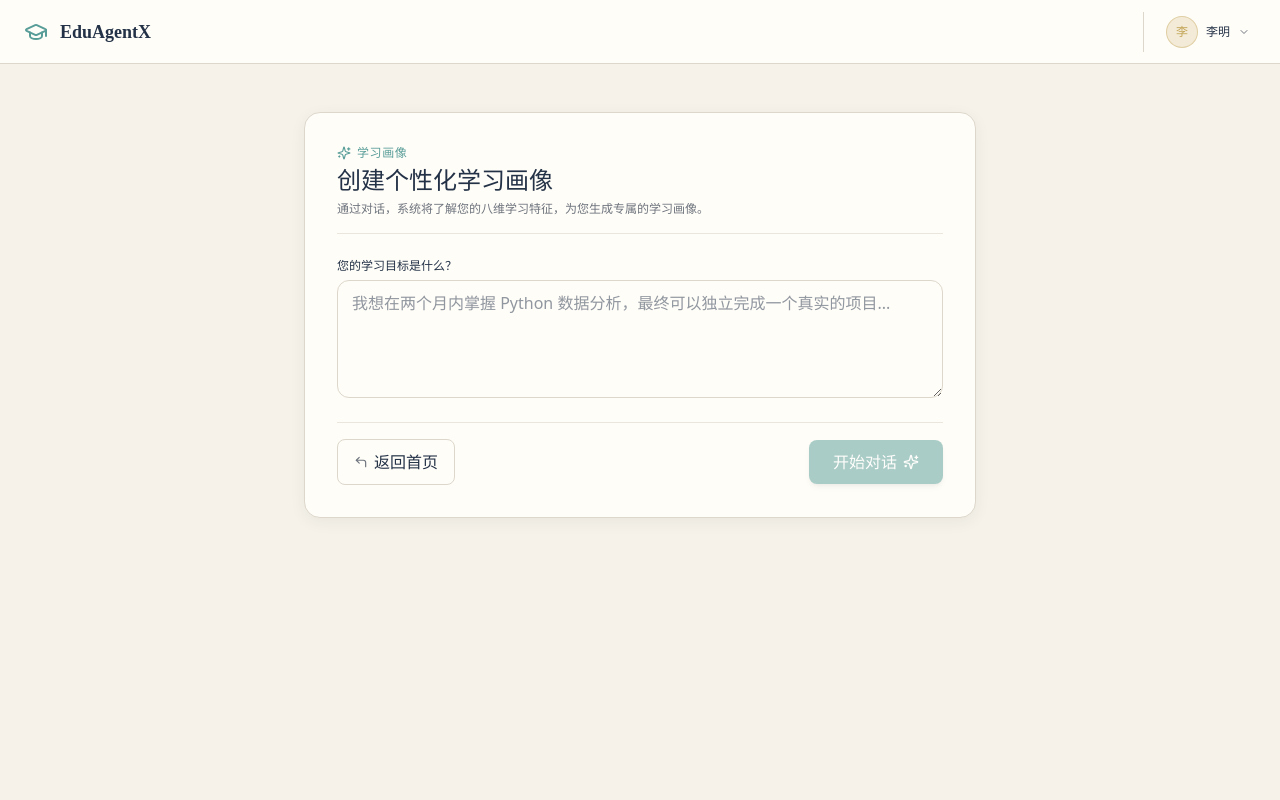
Scenario: ProfileConversationPage › should show validation error when goal is too short
The width and height of the screenshot is (1280, 800).
Type "短" into the text box with placeholder "我想在两个月内掌握 Python 数据分析，最终可以独立完成一个真实的项目..." at coordinates (640, 339), box [337,280,943,398]
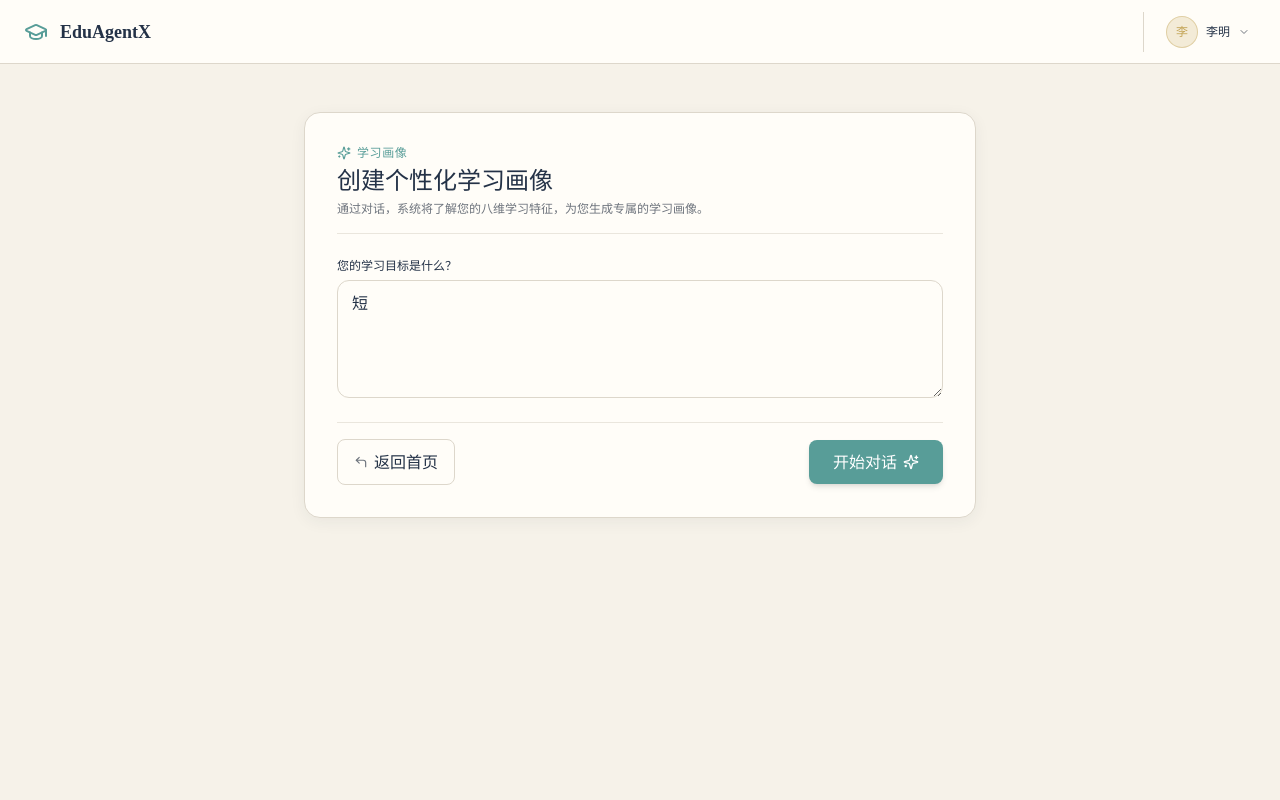
Click the button "开始对话" at coordinates (876, 462), box [809,440,943,484]
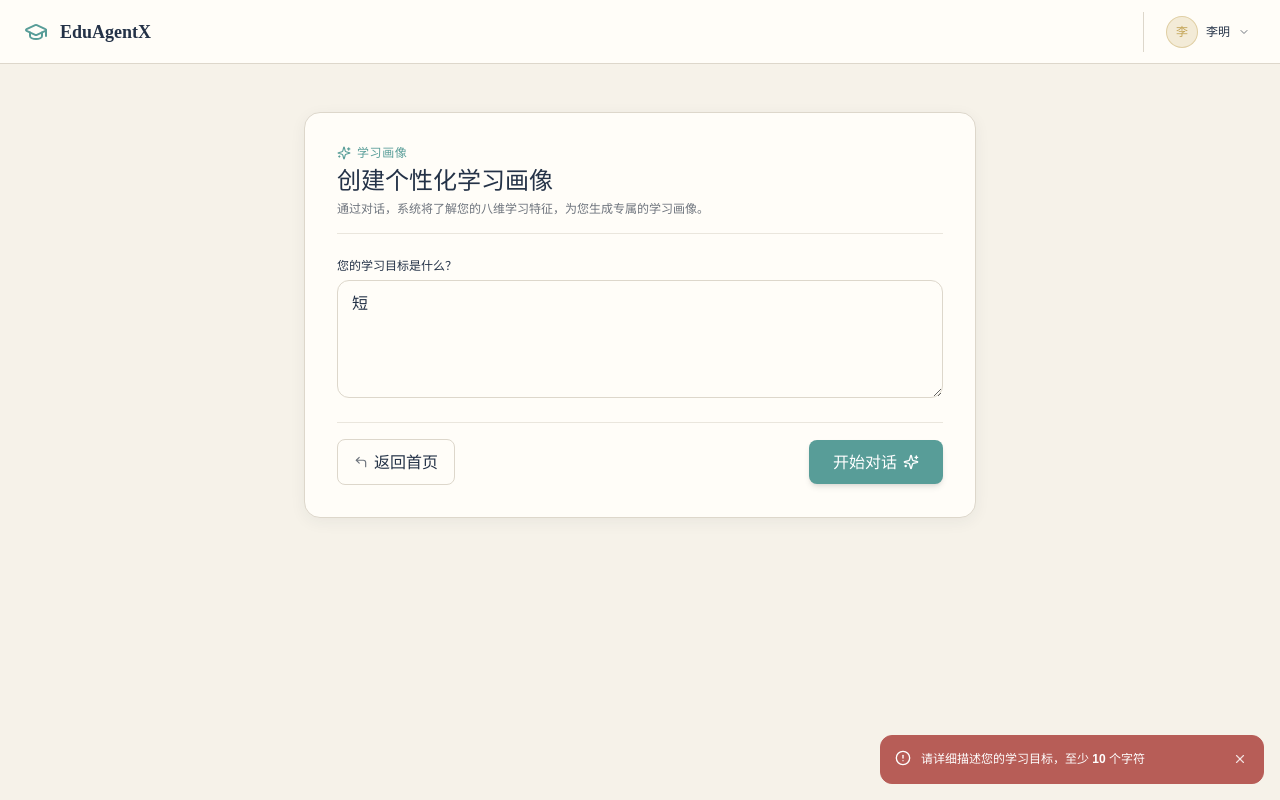
Expected: the text "请详细描述您的学习目标，至少 10 个字符" is shown, [921,752,1145,766]
